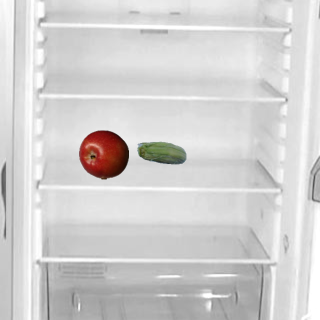Apple Braeburn: (78, 129, 128, 179)
Corn Husk: (136, 129, 186, 179)
